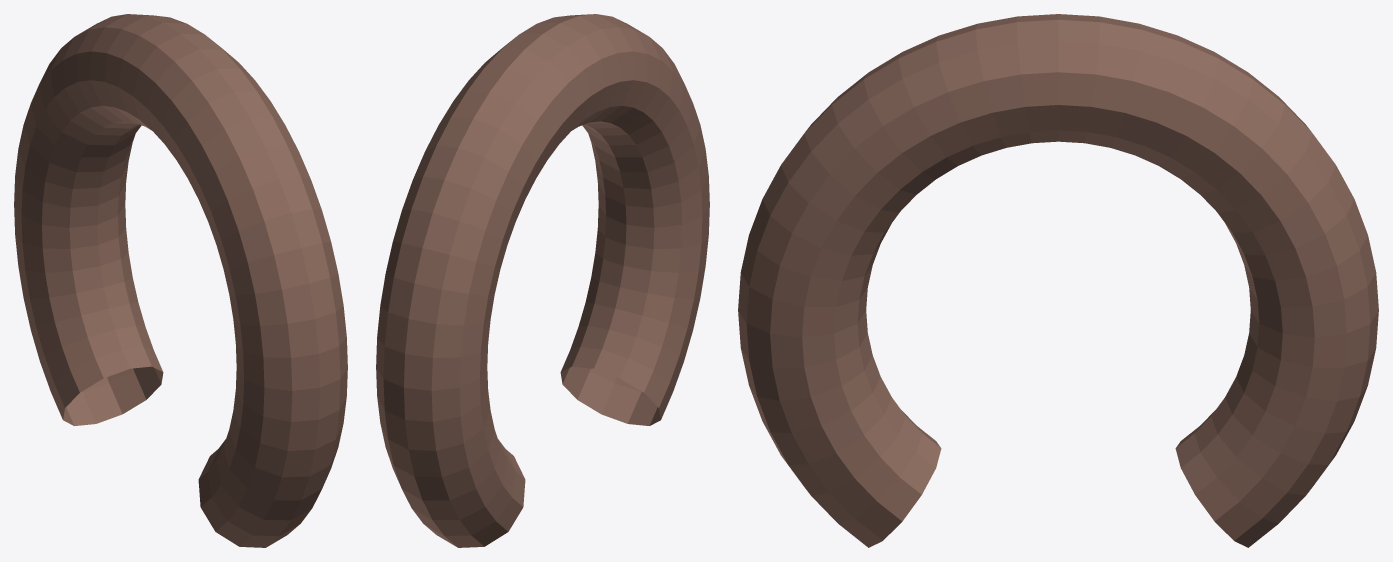
Rendered from Portail.fbx.
3 renders of one model, left to right at view 1: azimuth 30°, elevation 25°; view 2: azimuth 150°, elevation 25°; view 3: azimuth 270°, elevation 25°, orthographic. The views are drawn at different scales.
Parts seen in each view (by area): view 1: Torus; view 2: Torus; view 3: Torus.
Part boxes in pixels (x1,y1,x2,y2): Torus: (14,14,347,547); Torus: (376,14,709,547); Torus: (738,14,1378,547).
Bounding box in the file's own units: 50 × 224 × 250.
